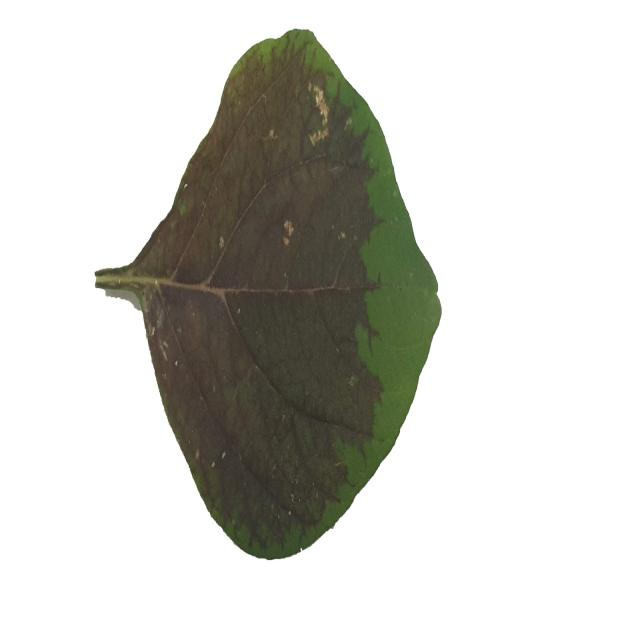Medicinal-Arive Dantu: (95, 29, 443, 565)
